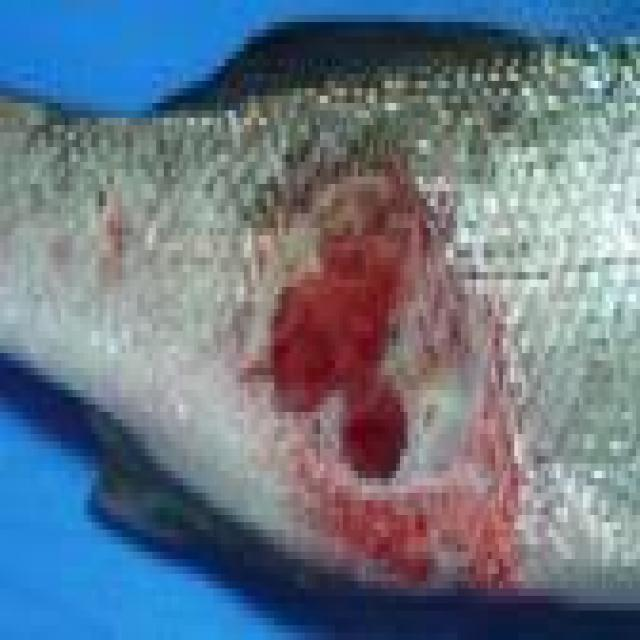EUS Disease: (0, 19, 630, 640), (65, 92, 549, 587)
